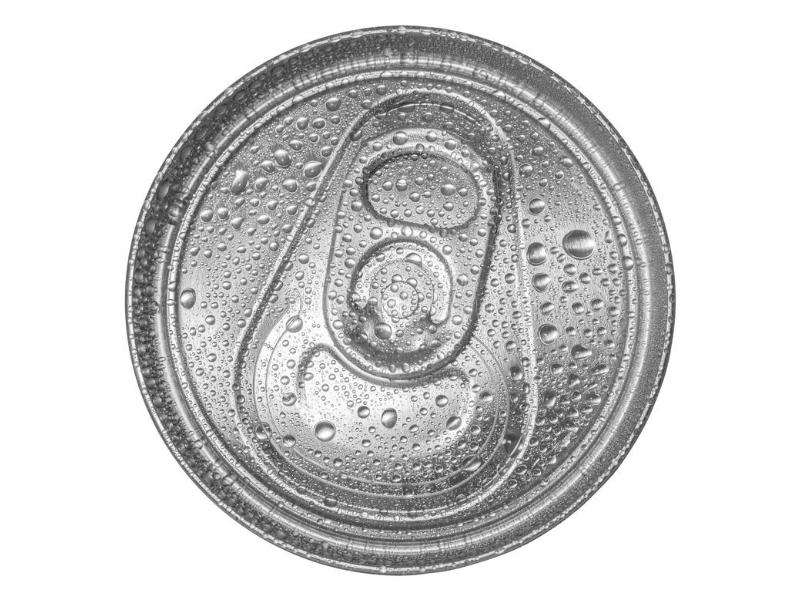can: (119, 13, 686, 579)
